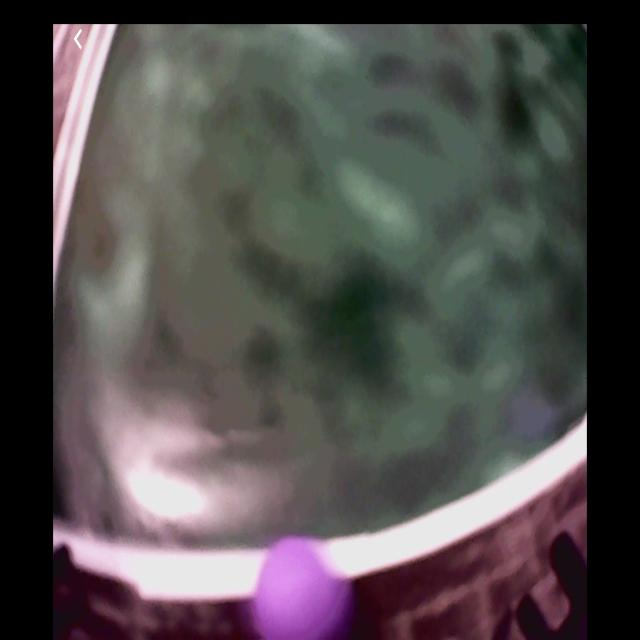ball: (249, 538, 358, 640)
